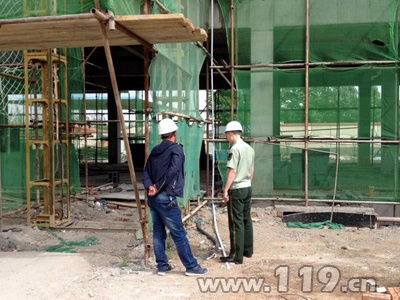white: (157, 118, 177, 142), (224, 119, 242, 144)
